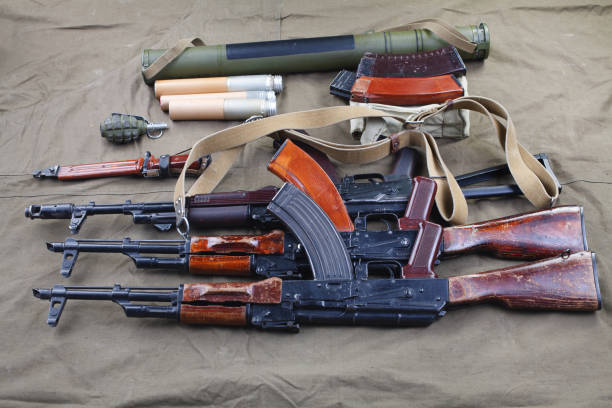e1: (101, 111, 169, 145)
